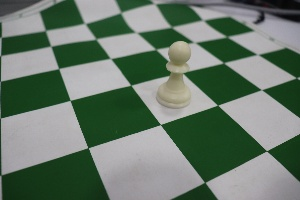white_pawn: (140, 25, 200, 116)
